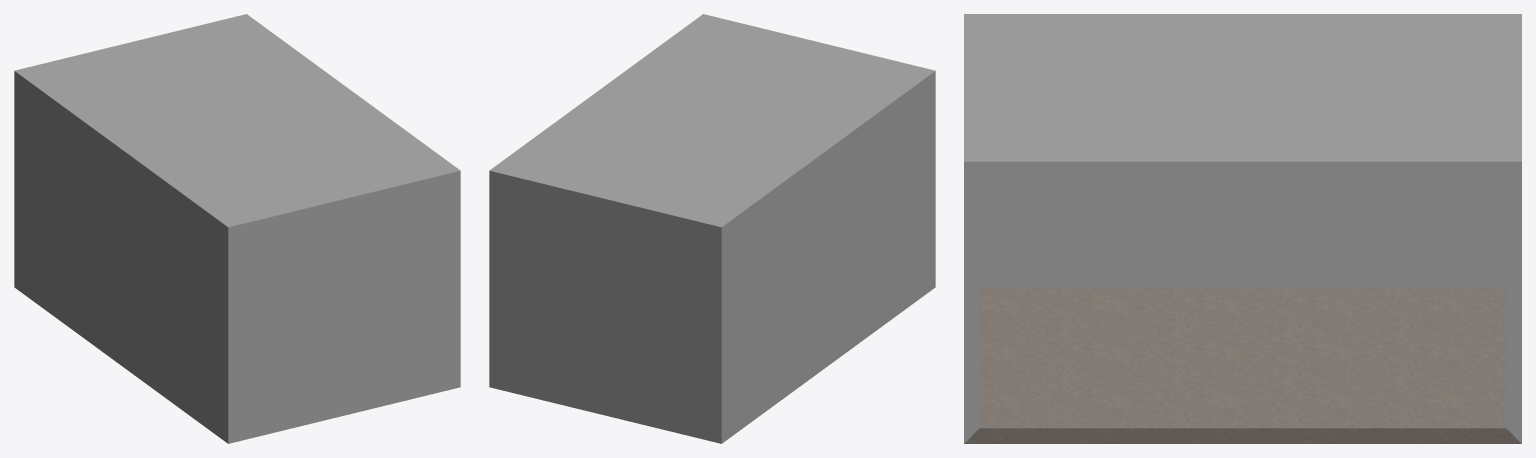
Rendered from Room_Basic.fbx.
3 renders of one model, left to right at view 1: azimuth 30°, elevation 25°; view 2: azimuth 150°, elevation 25°; view 3: azimuth 270°, elevation 25°, orthographic. The views are drawn at different scales.
Parts seen in each view (by area): view 1: Room_Basic; view 2: Room_Basic; view 3: Room_Basic.
Part boxes in pixels (x1=…): Room_Basic: x1=14, y1=14, x2=460, y2=443; Room_Basic: x1=489, y1=14, x2=935, y2=443; Room_Basic: x1=964, y1=14, x2=1521, y2=443.
Bounding box in the file's own units: 4.33 × 3.86 × 6.91.
3 materials, 2 textured.
